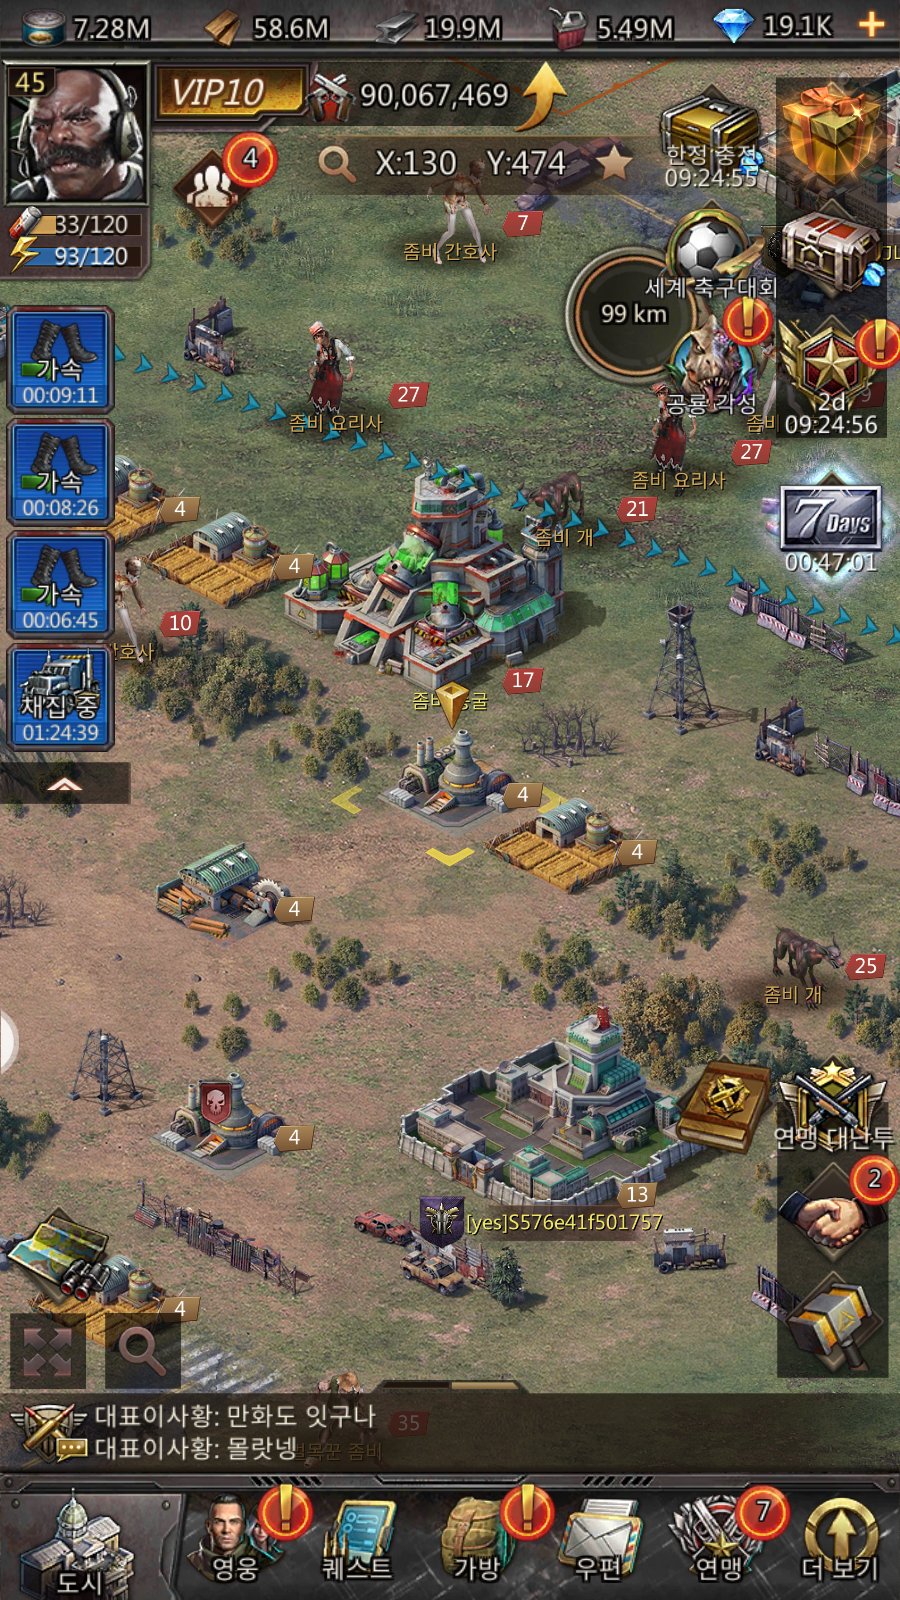city: (8, 1495, 175, 1600)
empty_steel: (308, 659, 603, 888)
open_panel: (98, 1295, 191, 1400)
troops_cnt_4: (154, 119, 281, 247)
